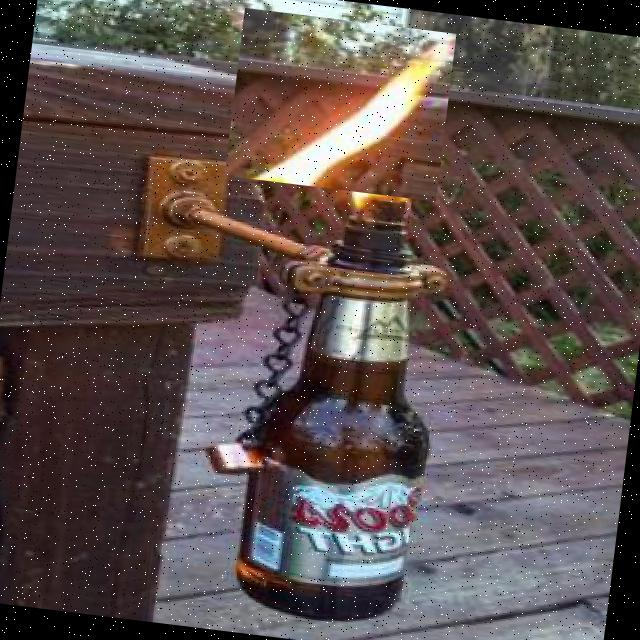fire: (224, 8, 456, 202)
